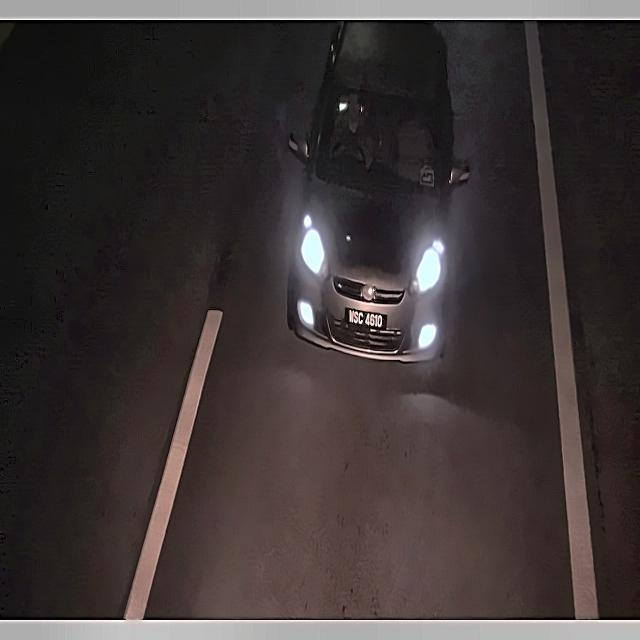car: (340, 298, 392, 338)
